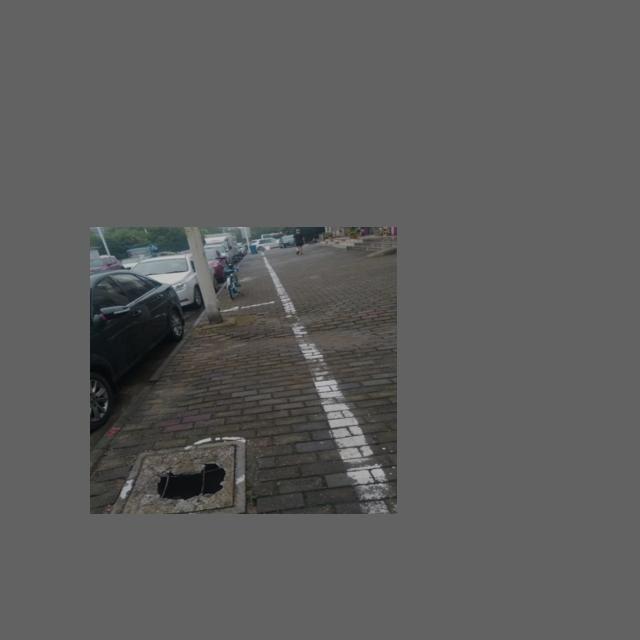broke: (115, 438, 244, 513)
